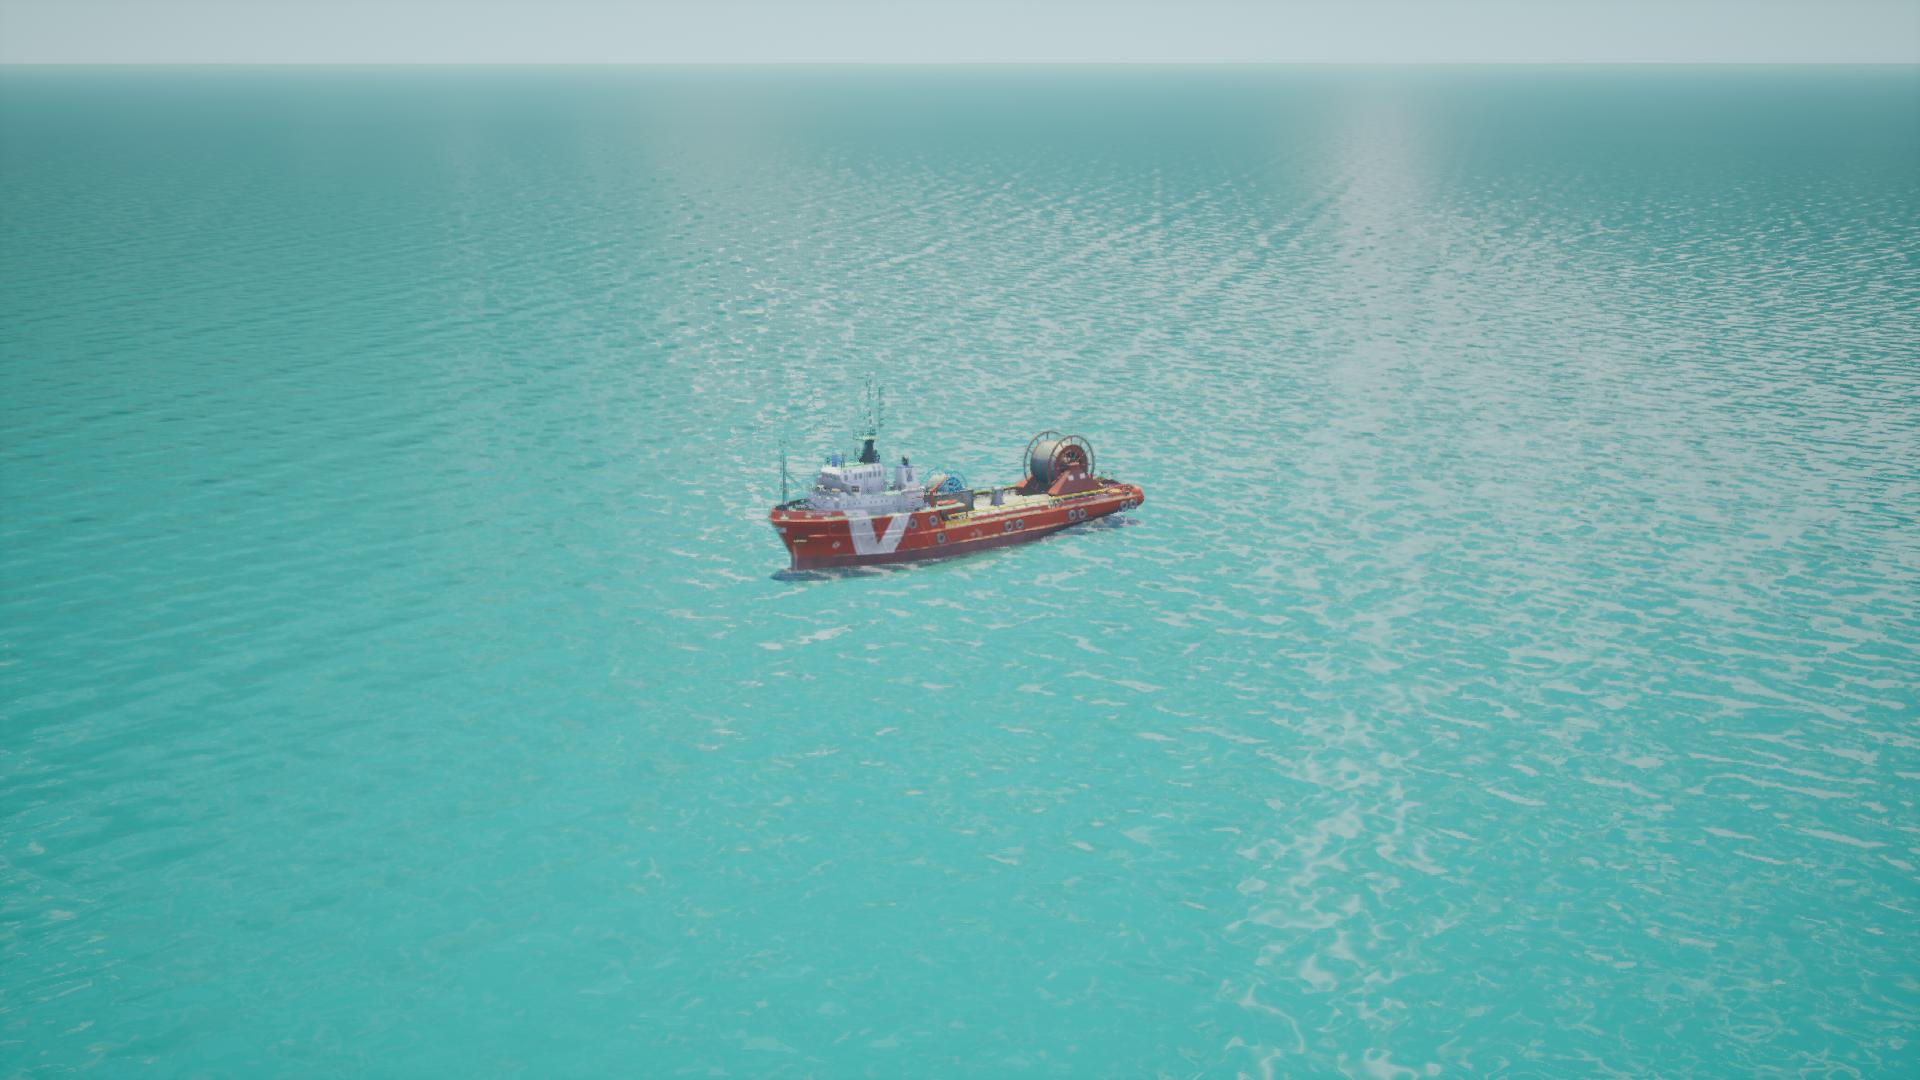Tug Boat: (764, 438, 1149, 579)
